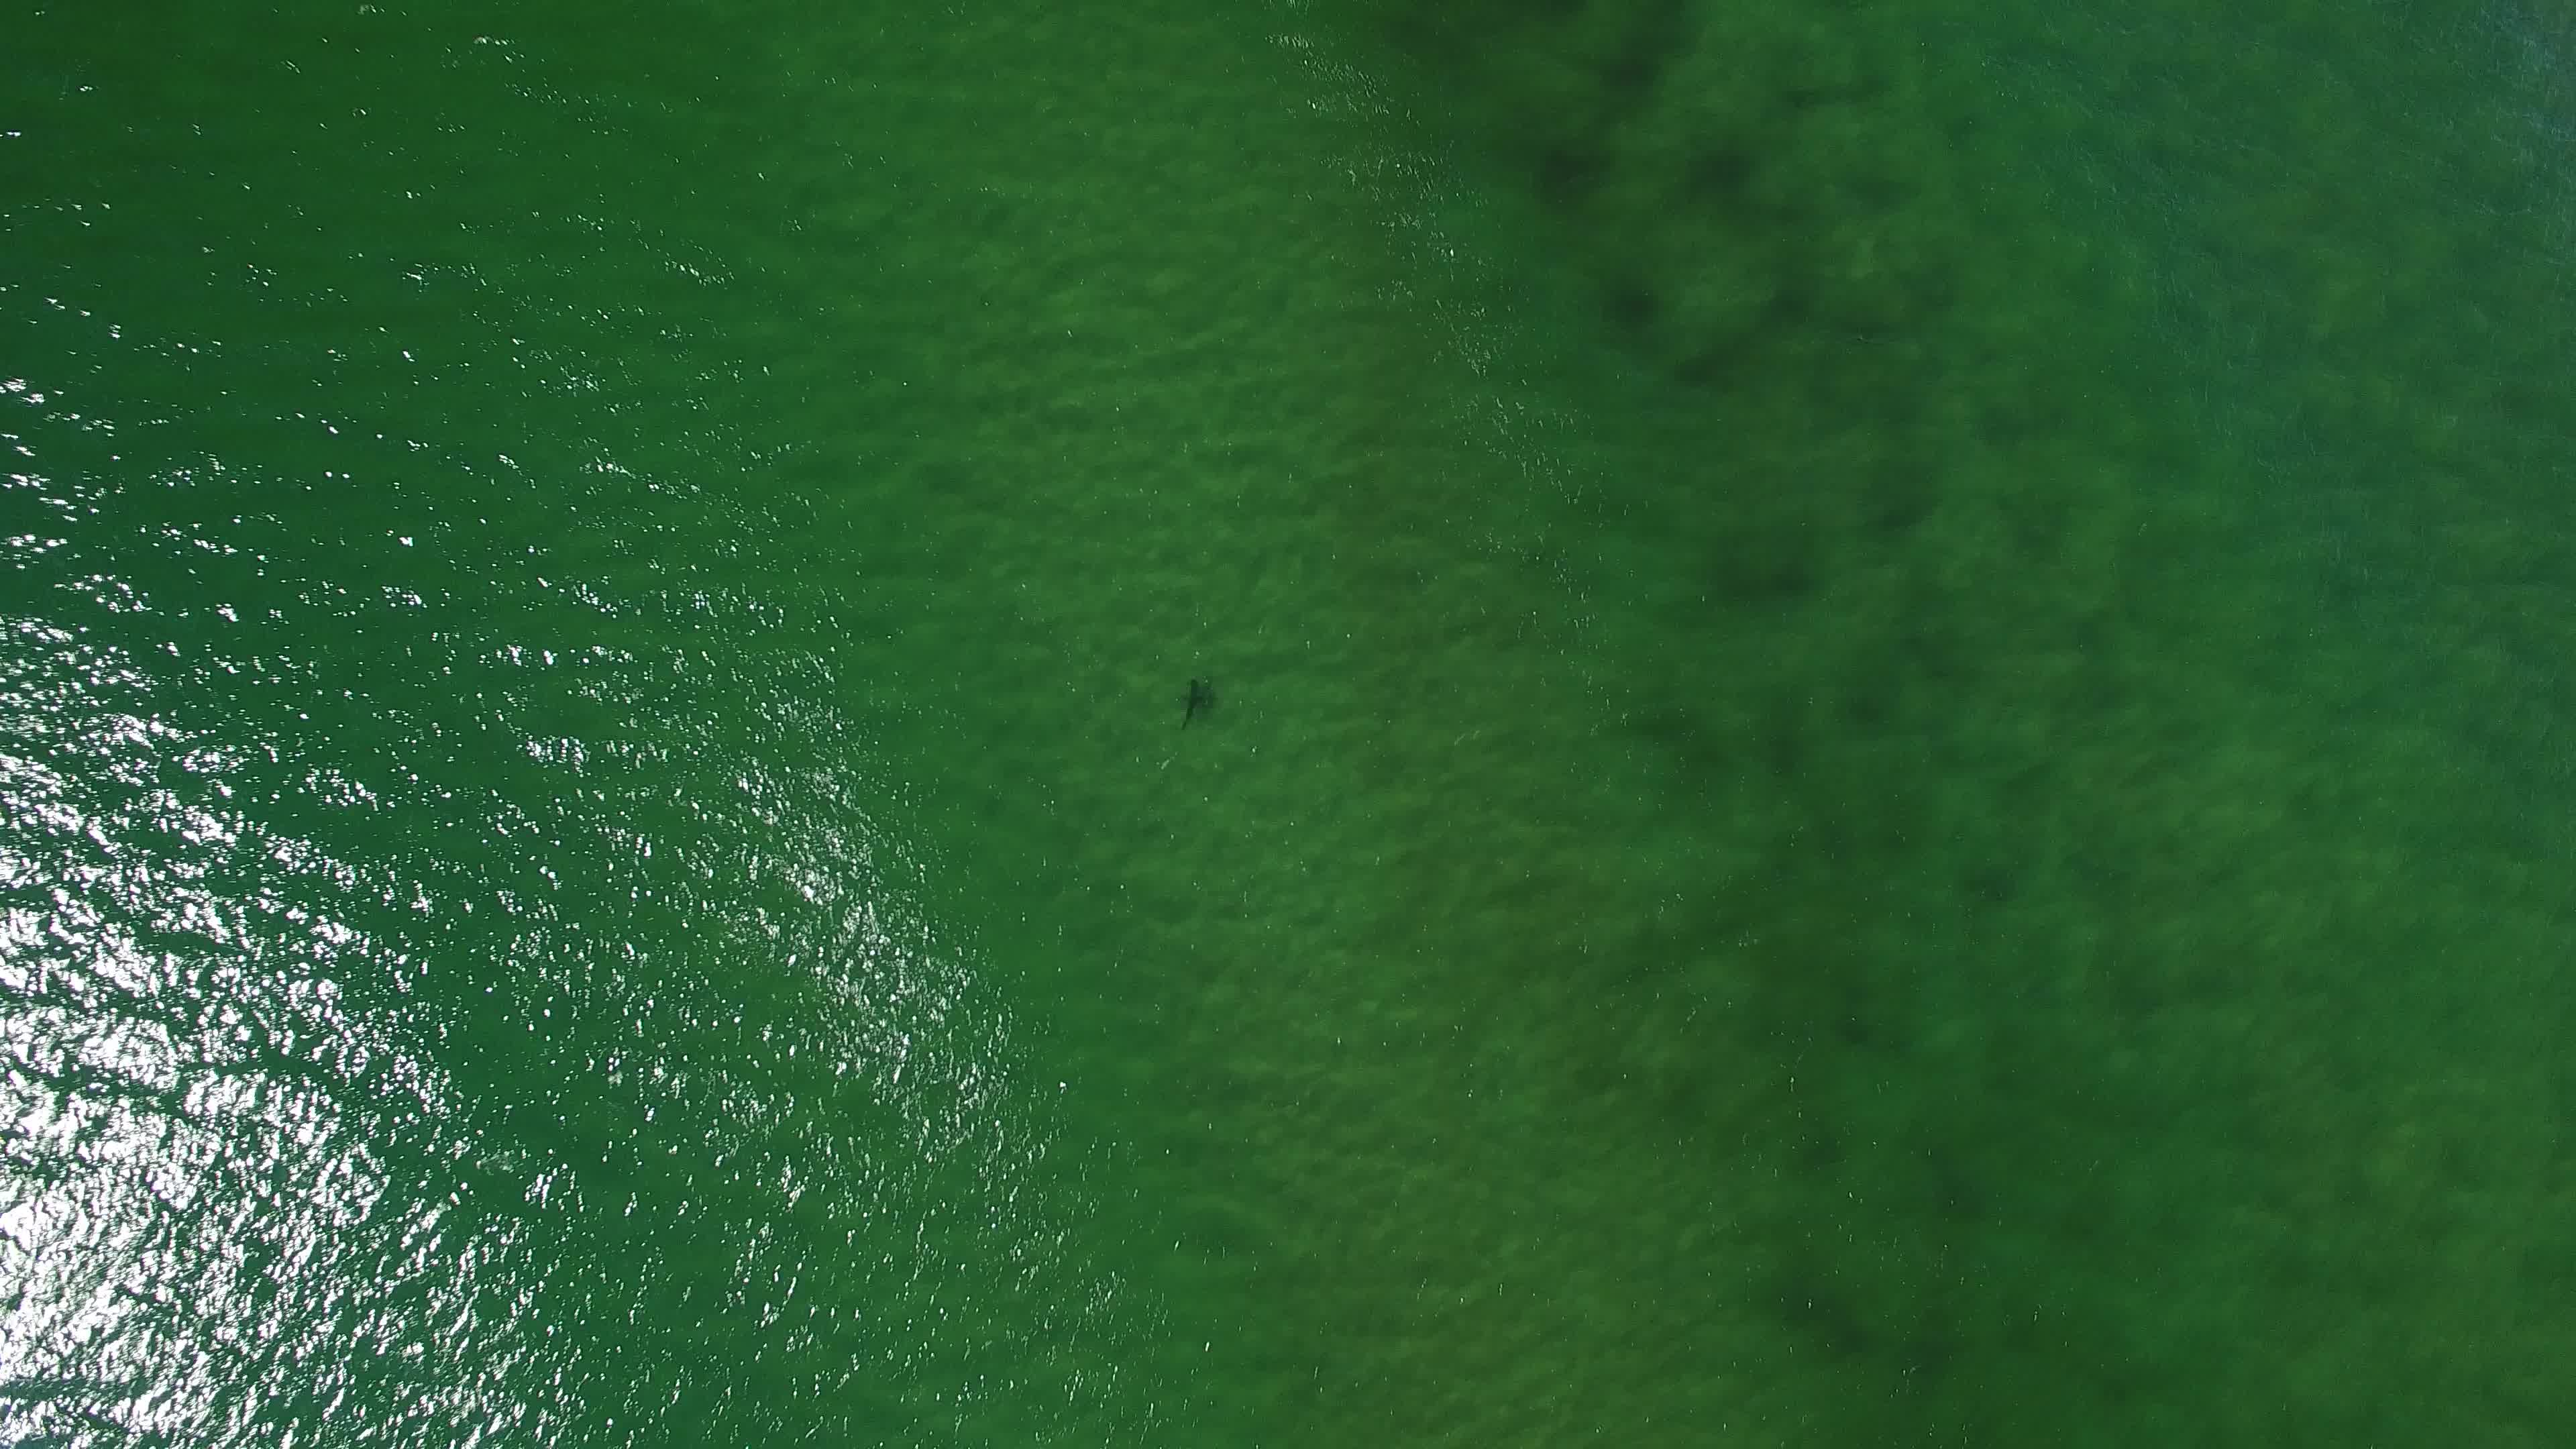shark: (1173, 672, 1208, 731)
